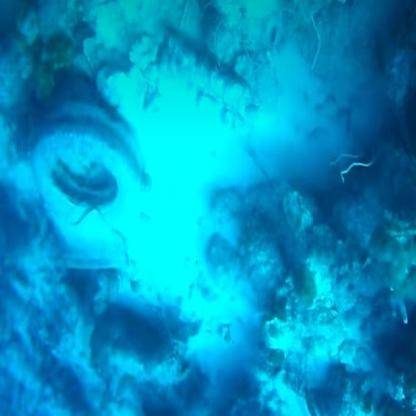tire: (41, 95, 152, 245)
